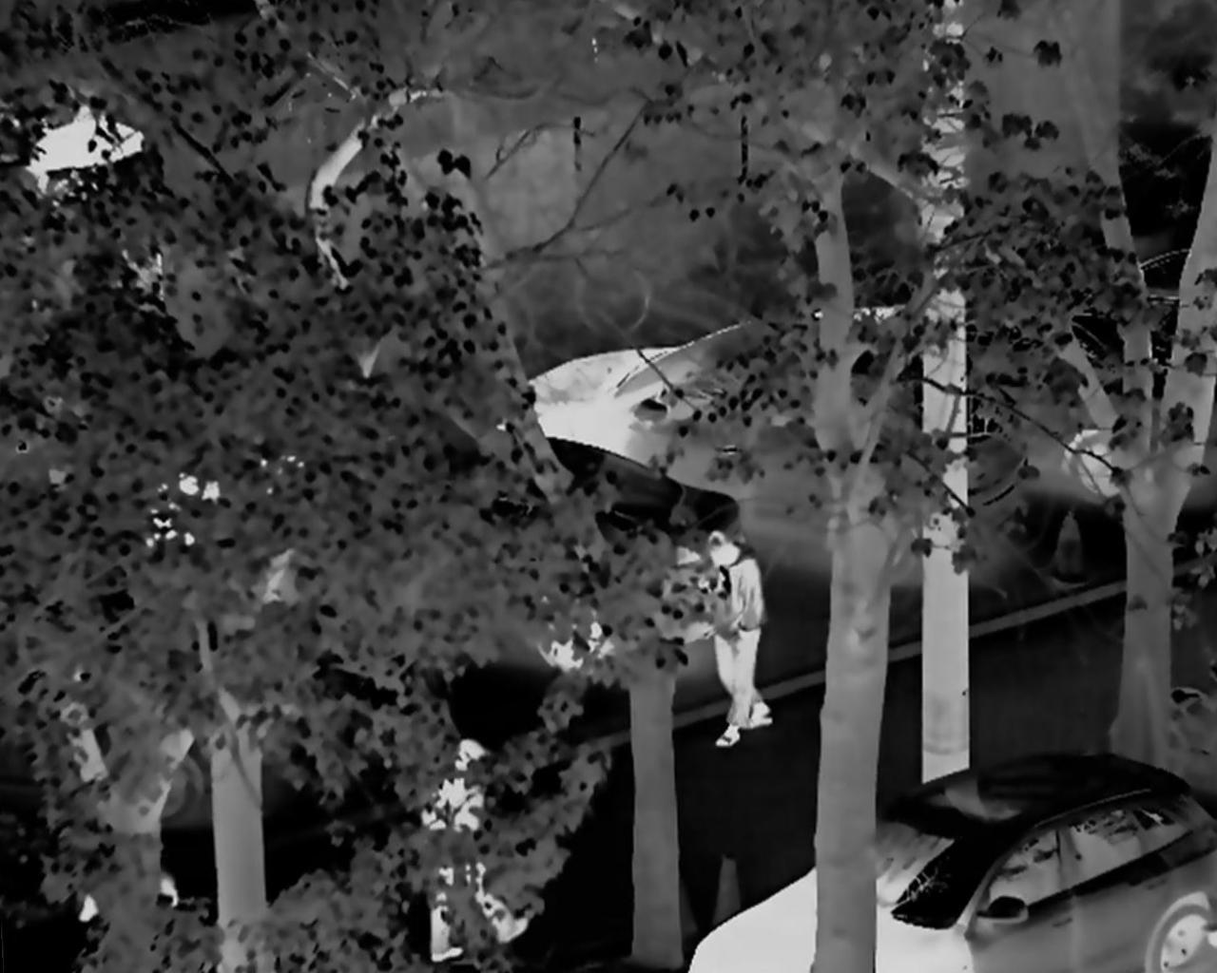person: (409, 744, 529, 959), (701, 525, 774, 754)
